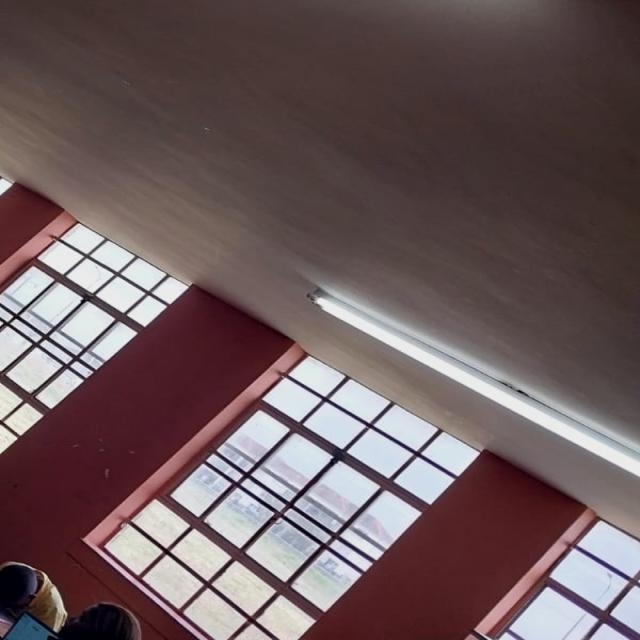fluorescent tube: (258, 262, 640, 492), (0, 0, 551, 1)
